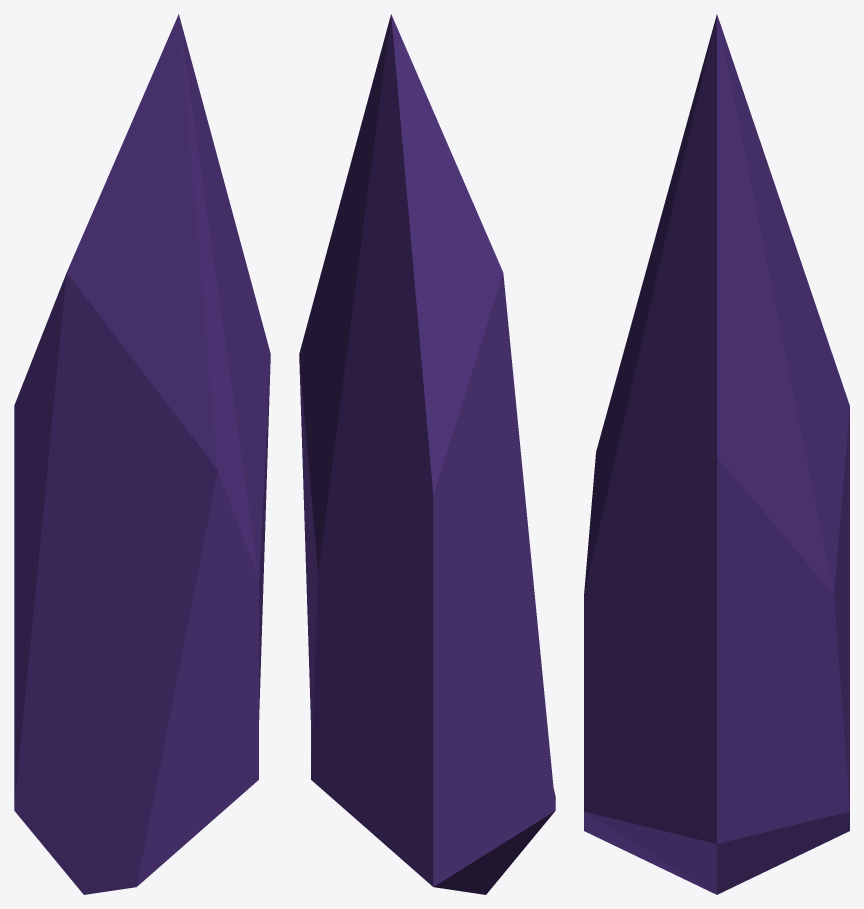
Rendered from Crystal_Pointu_4.FBX.
The picture shows the model from 3 angles, left to right: view 1: azimuth 30°, elevation 25°; view 2: azimuth 150°, elevation 25°; view 3: azimuth 270°, elevation 25°; orthographic projection. The views are drawn at different scales.
Parts seen in each view (by area): view 1: Spindle001; view 2: Spindle001; view 3: Spindle001.
Boxes of the visible parts, left/top/right/bottom form: Spindle001: left=14, top=14, right=270, bottom=894; Spindle001: left=299, top=14, right=555, bottom=894; Spindle001: left=584, top=14, right=849, bottom=894.
Size of the model in its own units: 45.67 by 146 by 37.75.
